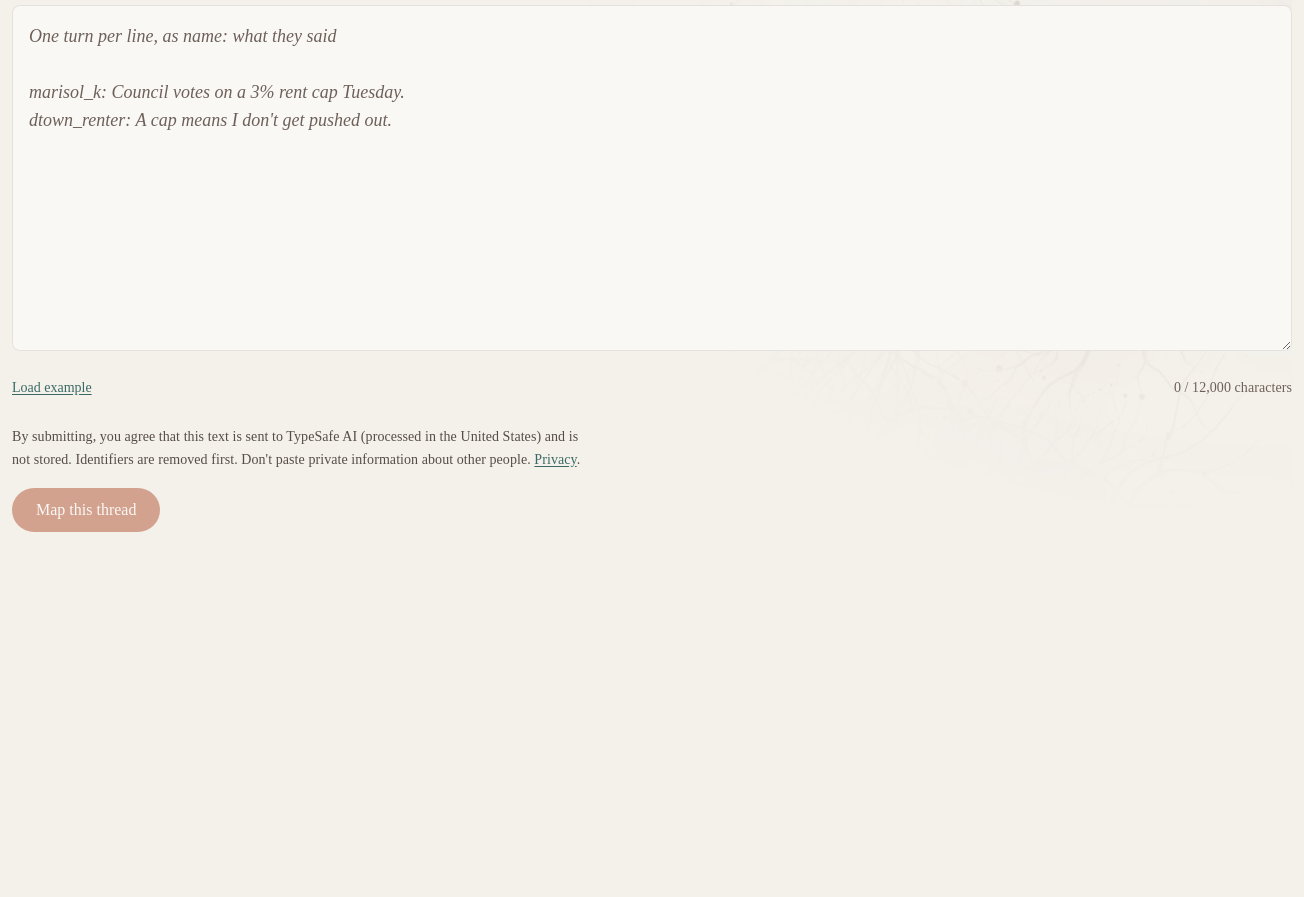
Test: MapReplyClient › copies the composed markdown from the reply footer
What coordinates should you click on to do the following:
click the button "Load example"
I would click on:
 (52, 388)
Its box is [12,366,92,410].
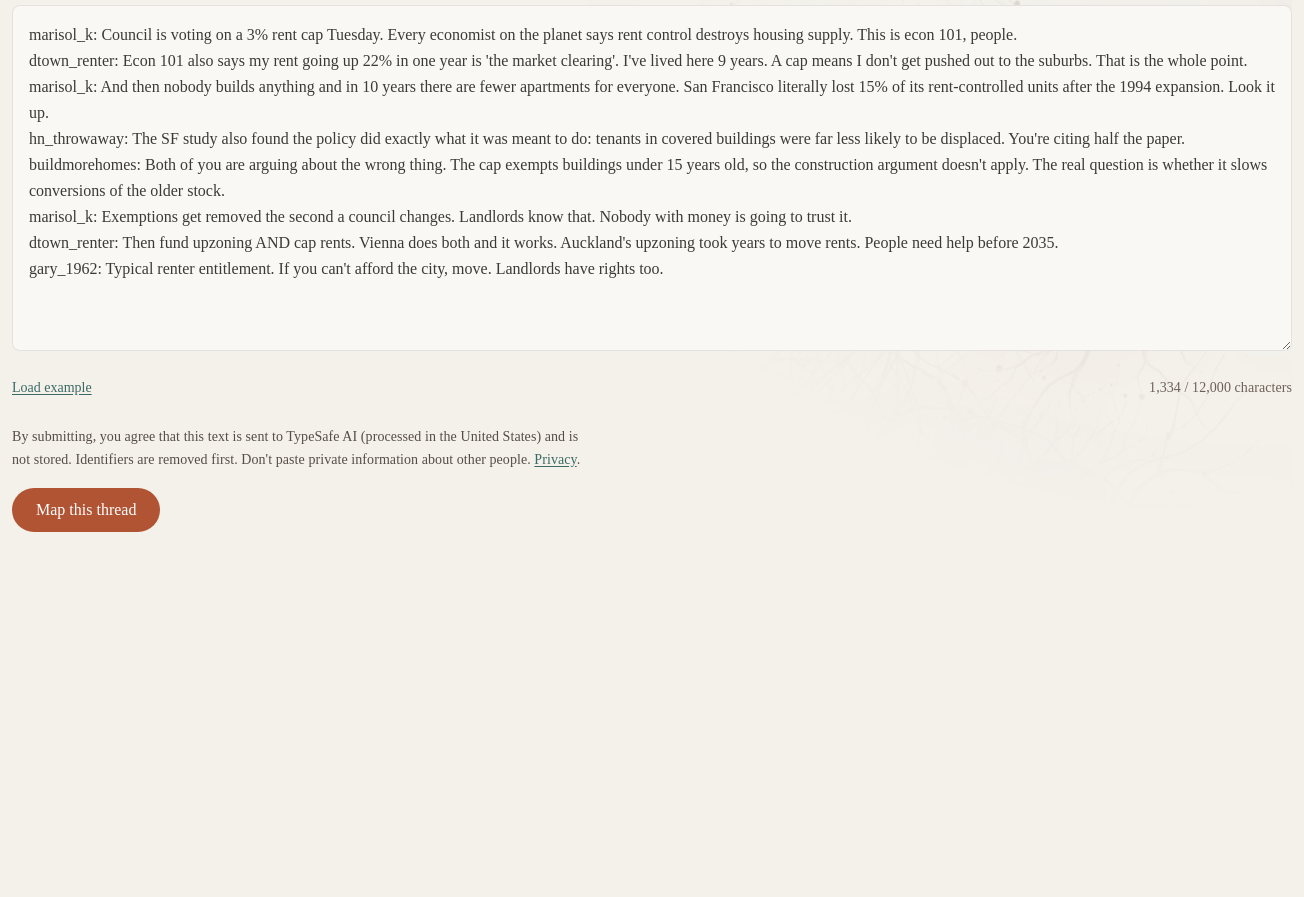
What coordinates should you click on to do the following:
click the button "Map this thread"
I would click on:
 (86, 510)
Its box is [12,488,160,532].
(page scrolled)
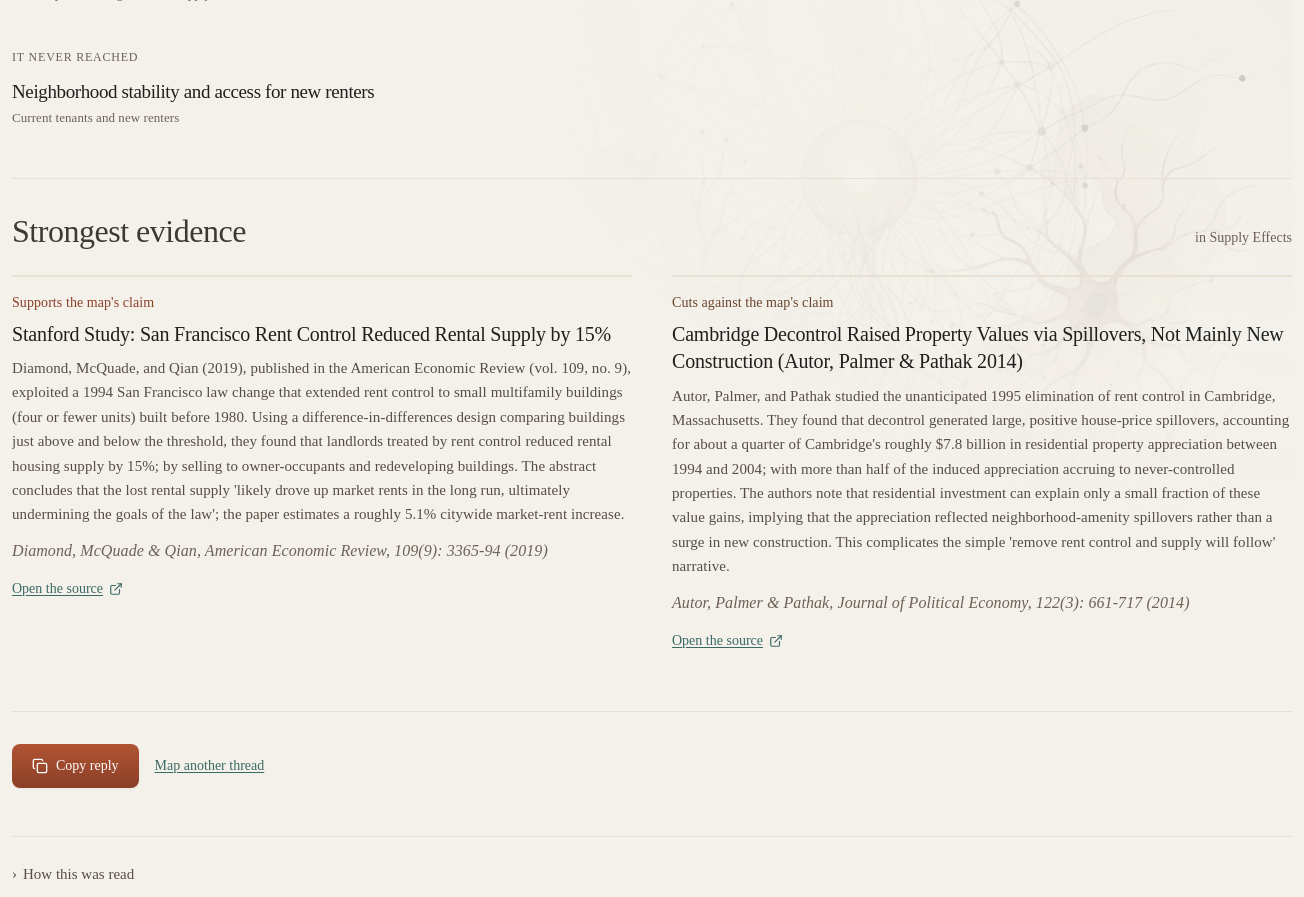
What coordinates should you click on to do the following:
click the button "Copy reply"
I would click on:
 (75, 766)
Its box is [12,744,139,788].
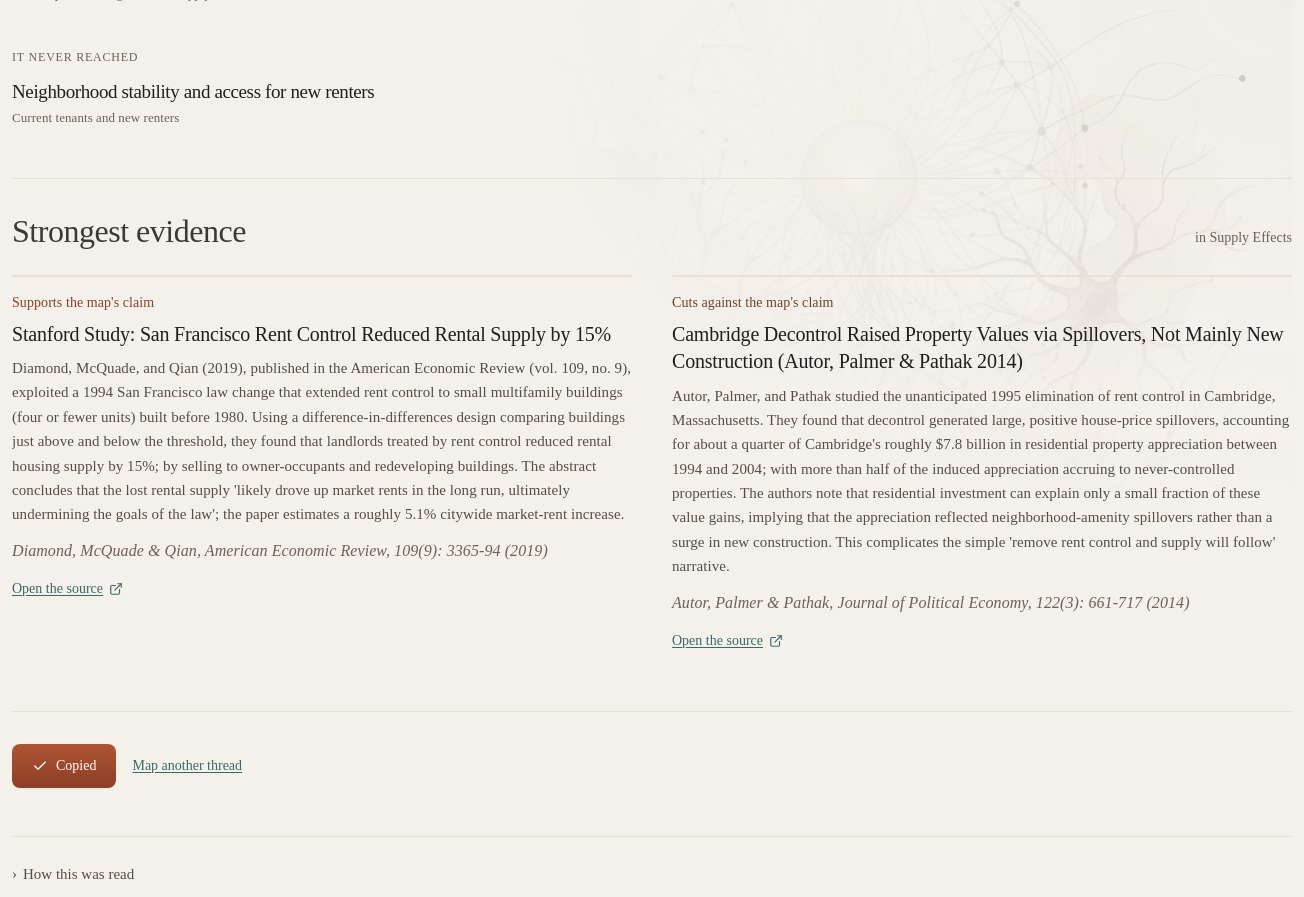
Check: the button "Copied" is shown, box [12,744,116,788]
